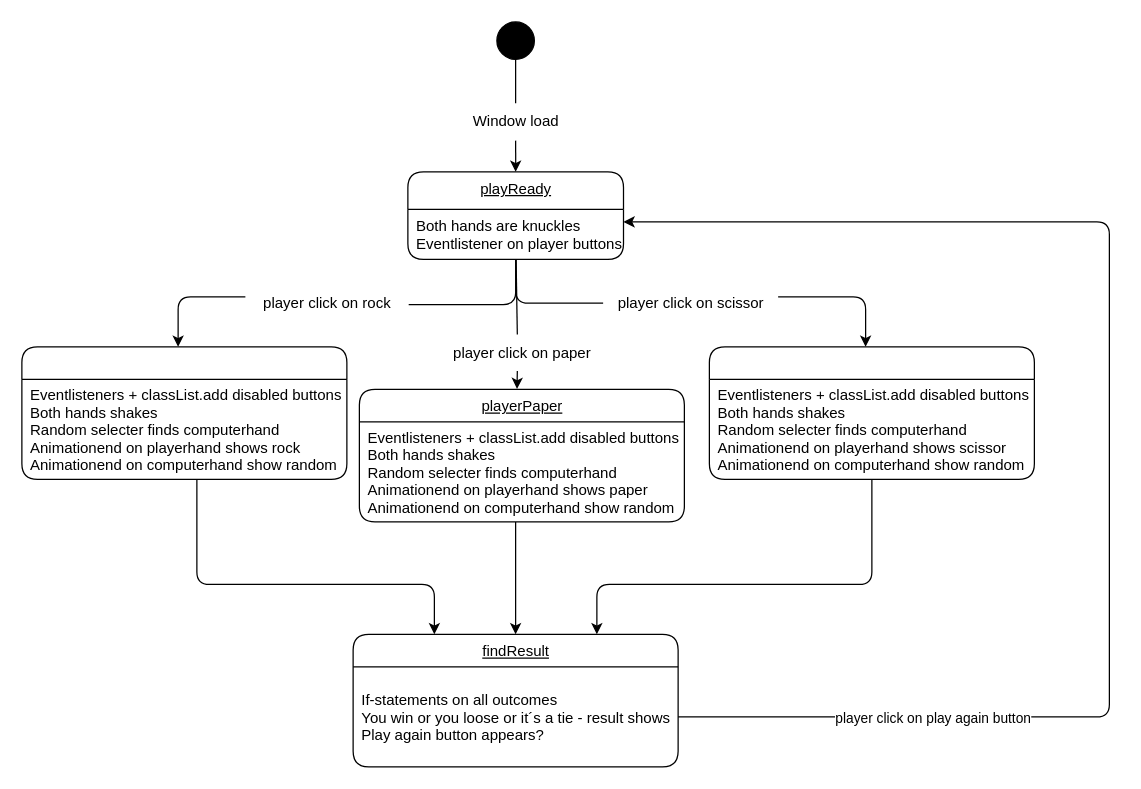
Some shapes in this 1141 by 789 pixel diagram are drawn without their labels. Here are the shapes that lost their labels. From the top down, the box of each, then its label:
(21, 346, 347, 479): playerRock
(708, 346, 1034, 479): playerScissor
